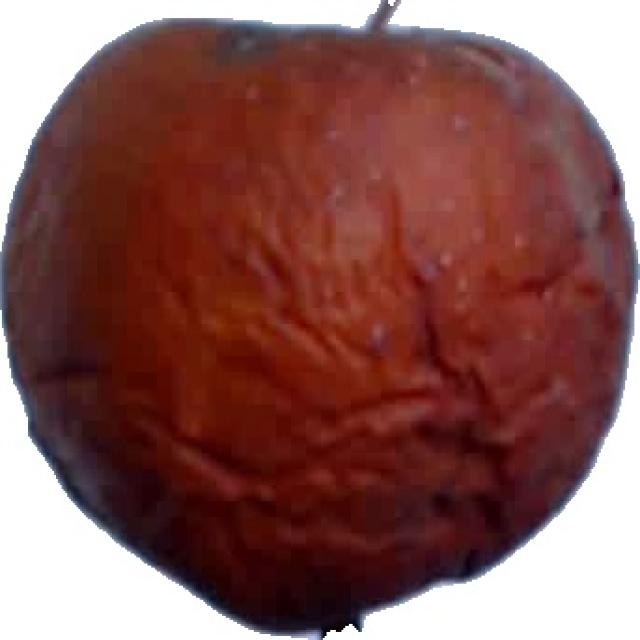Bozuk Elma: (0, 4, 638, 638)
